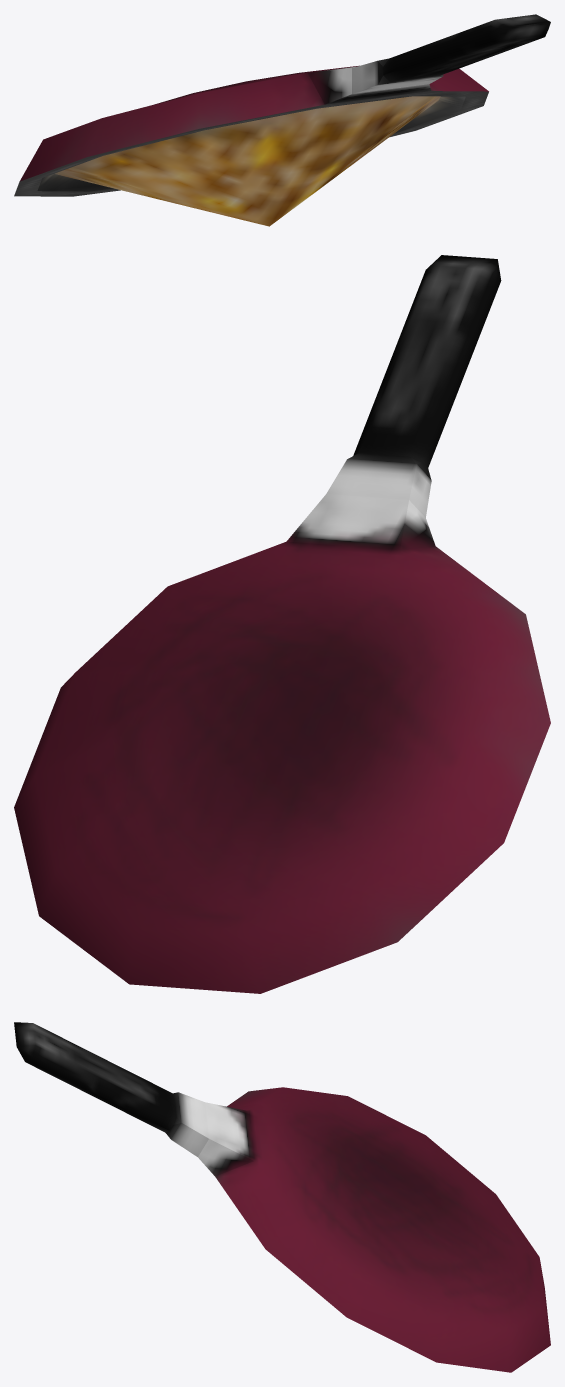
File: C_FryingPanFood.fbx
3 renders of one model, top to bottom at view 1: azimuth 30°, elevation 25°; view 2: azimuth 150°, elevation 25°; view 3: azimuth 270°, elevation 25°, orthographic. The views are drawn at different scales.
Visible parts, largest first — view 1: StirFry; view 2: StirFry; view 3: StirFry.
Boxes of the visible parts, <box> form: StirFry: <box>14,14,550,226</box>; StirFry: <box>14,255,550,993</box>; StirFry: <box>14,1022,550,1372</box>.
Bounding box in the file's own units: 43.38 × 38.19 × 57.24.
